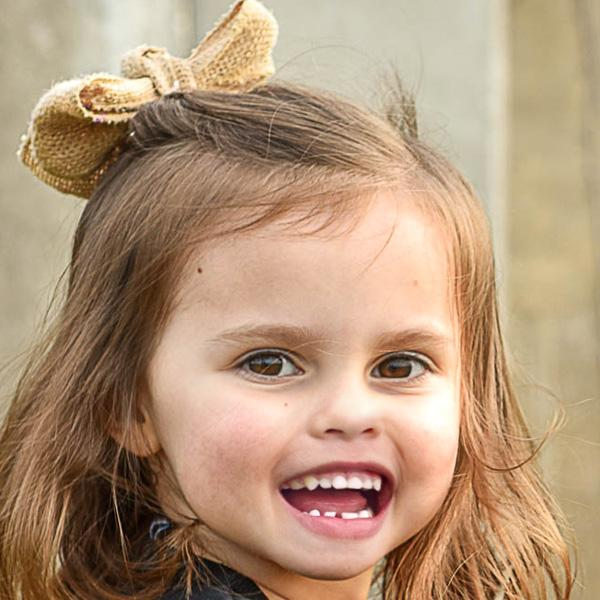Eyes: (219, 335, 311, 396), (357, 341, 441, 396)
